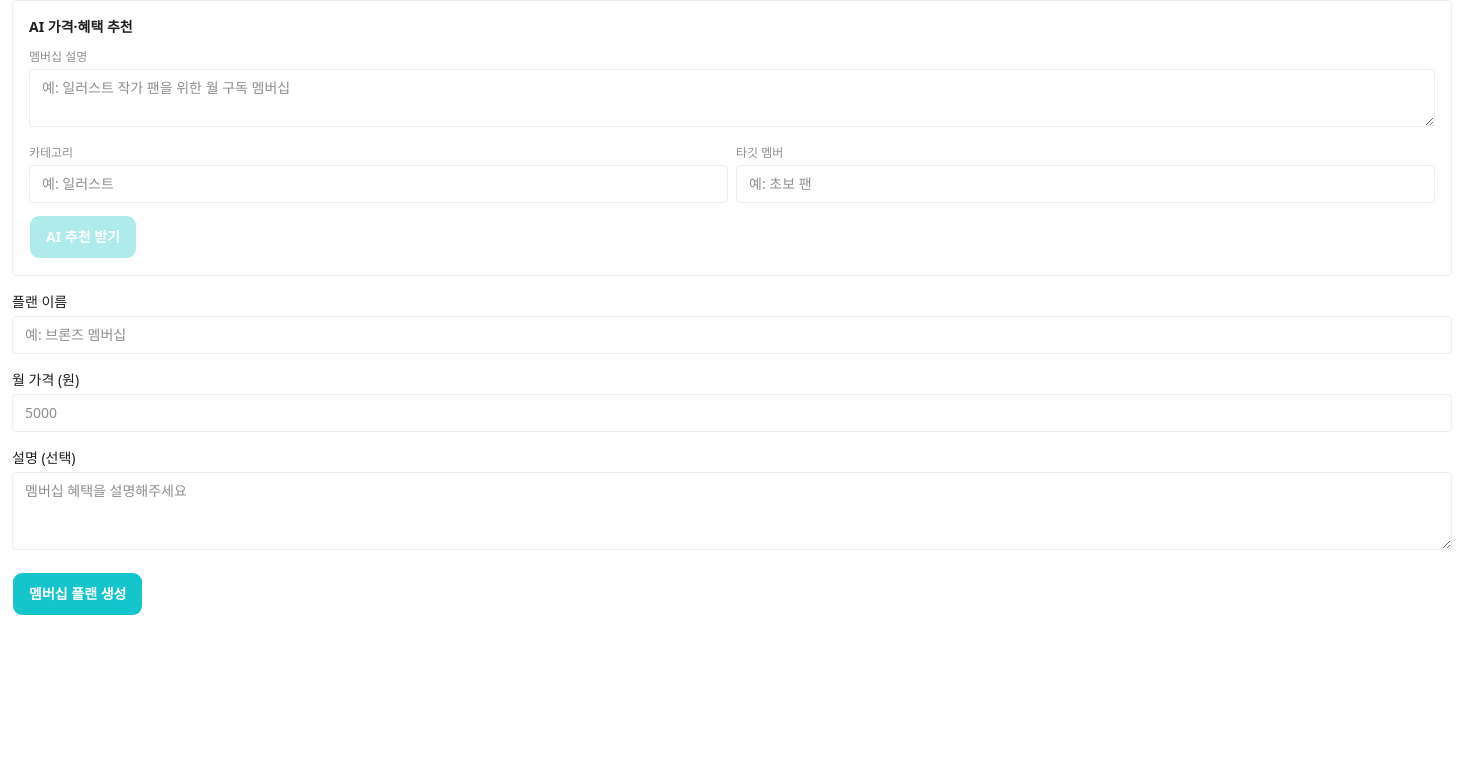
Test: NewMembershipClient (SPEC-014 REQ-2-003, REQ-2-004) › AI 추천 반영 시 priceKrw와 description이 폼에 주입된다 (REQ-2-003, AC-2-001)
The image size is (1464, 779).
Note: 설명 입력 후 AI 추천 요청
Type "일러스트 팬 멤버십" into the text box labelled "멤버십 설명".
click(732, 98); type("일러스트 팬 멤버십")  # box [29, 69, 1435, 127]
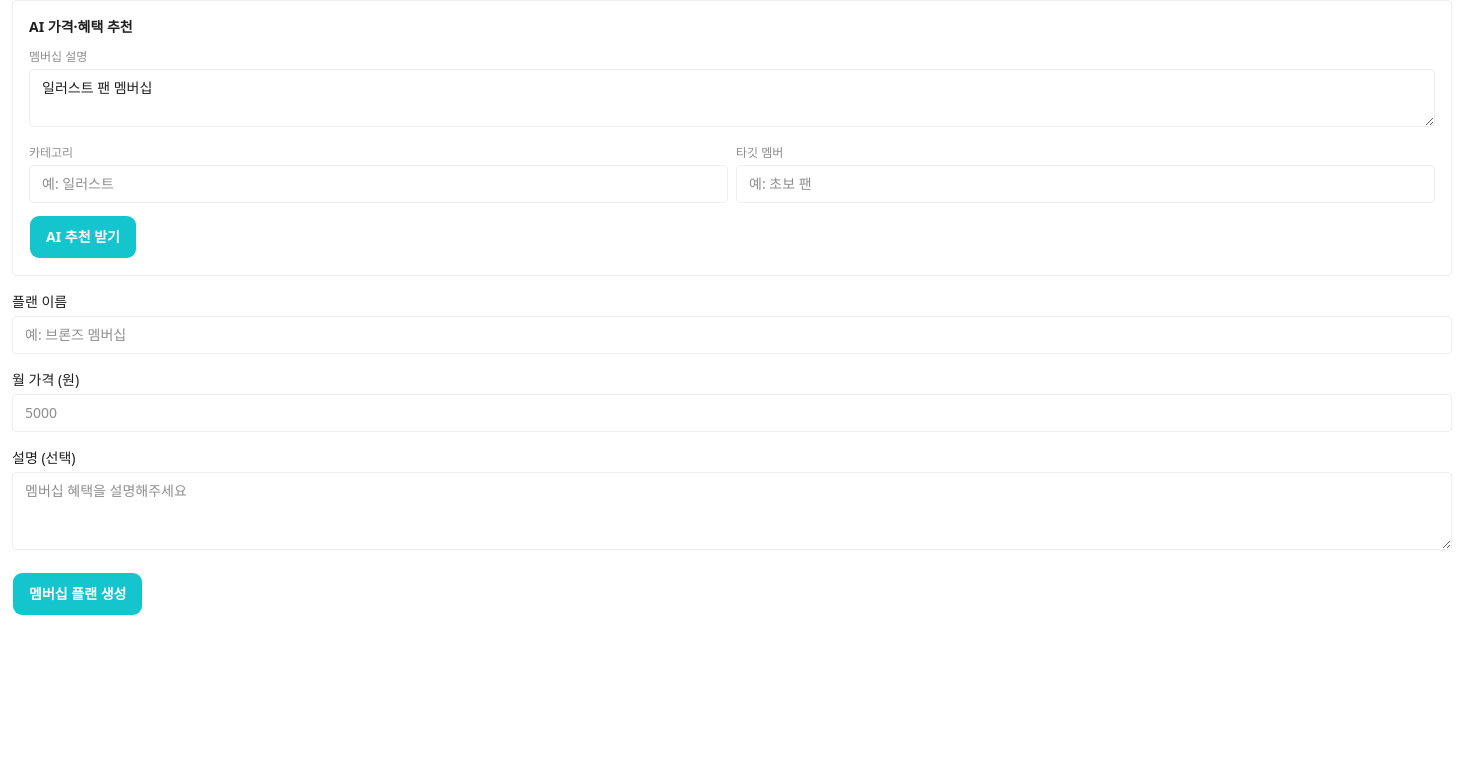
Click the button "AI 추천 받기".
click(83, 237)  # box [29, 215, 137, 259]
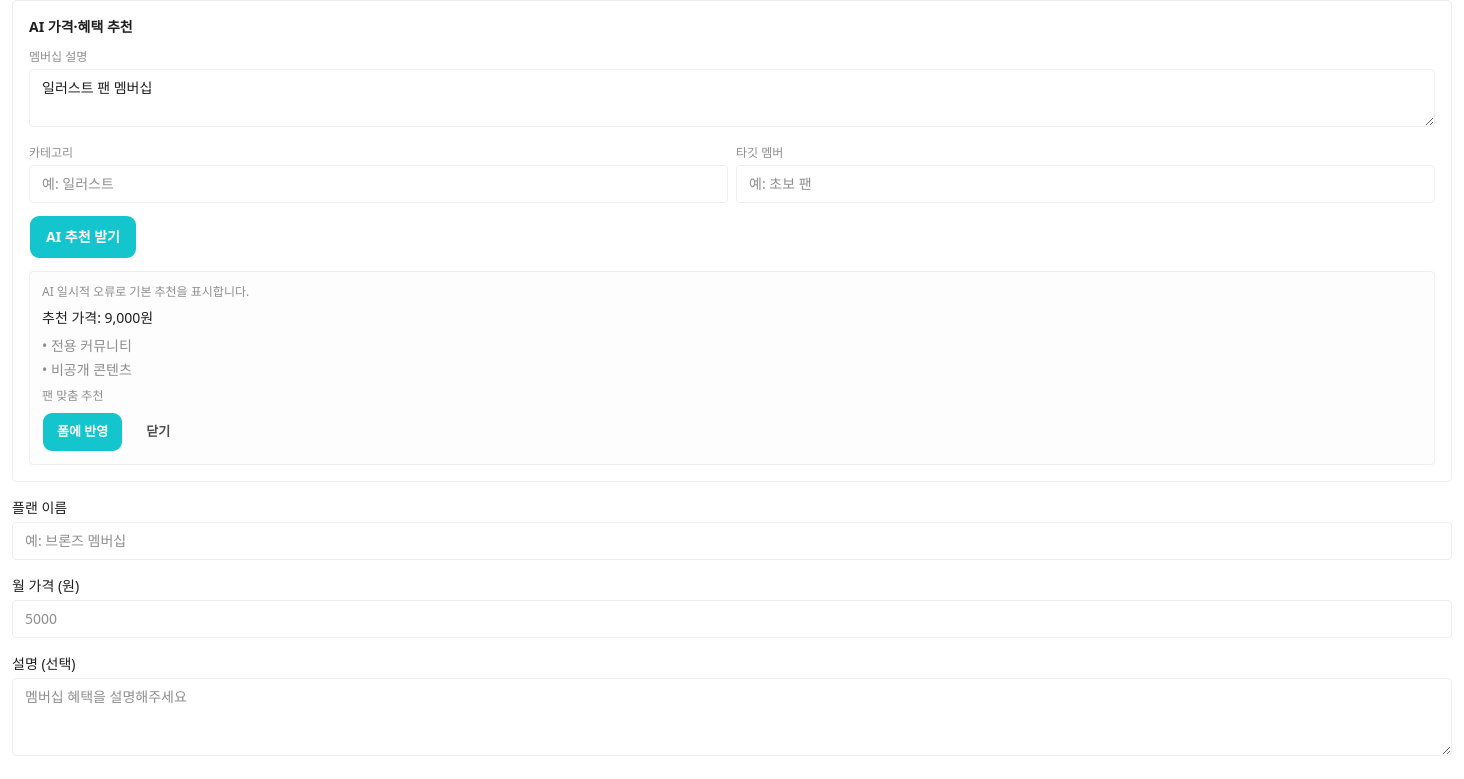
Check: the text "추천 가격: 9,000원" is shown, box [42, 308, 153, 327]
Click the button "폼에 반영".
click(83, 432)  # box [42, 412, 123, 452]
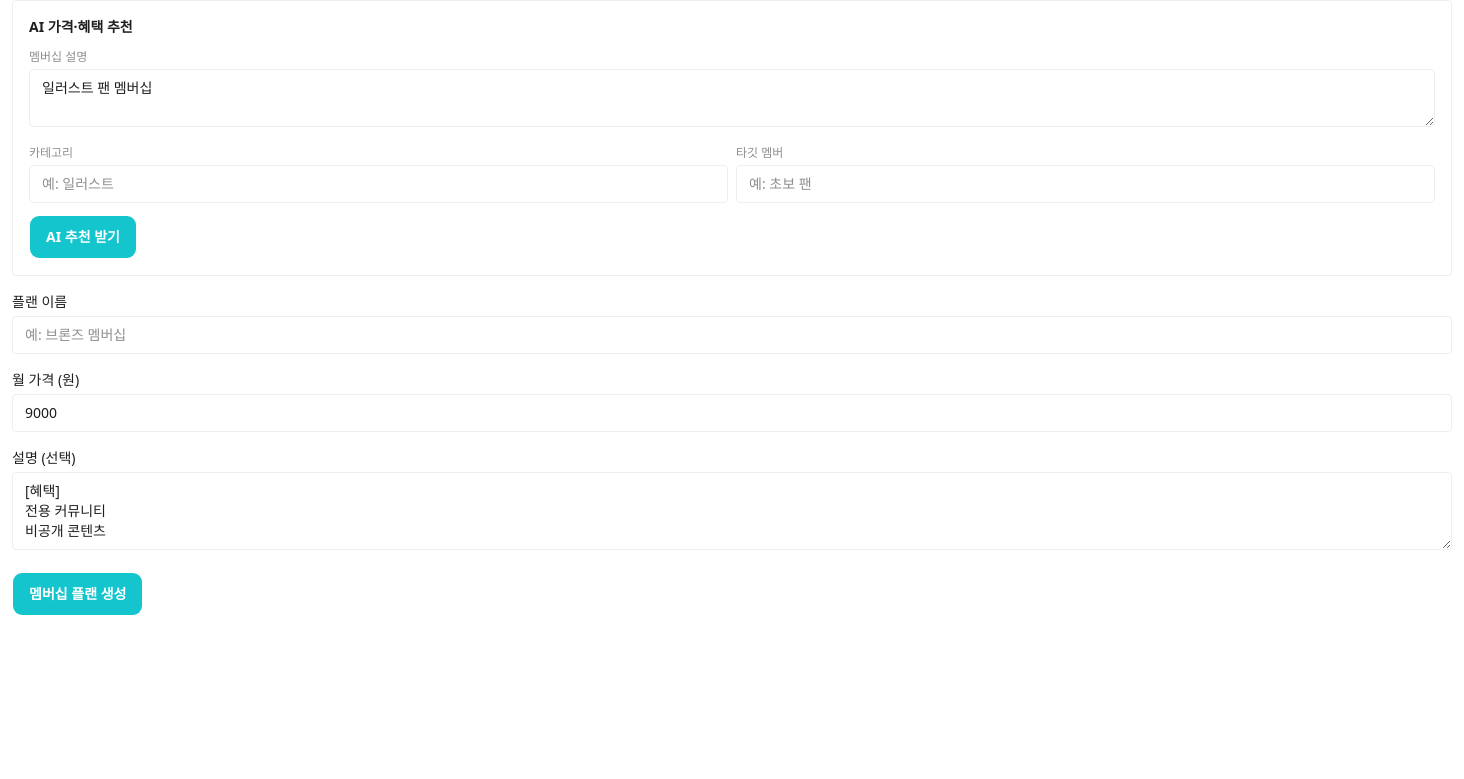
Check: the number field labelled "월 가격 (원)" holds "9000", box [12, 394, 1452, 432]
